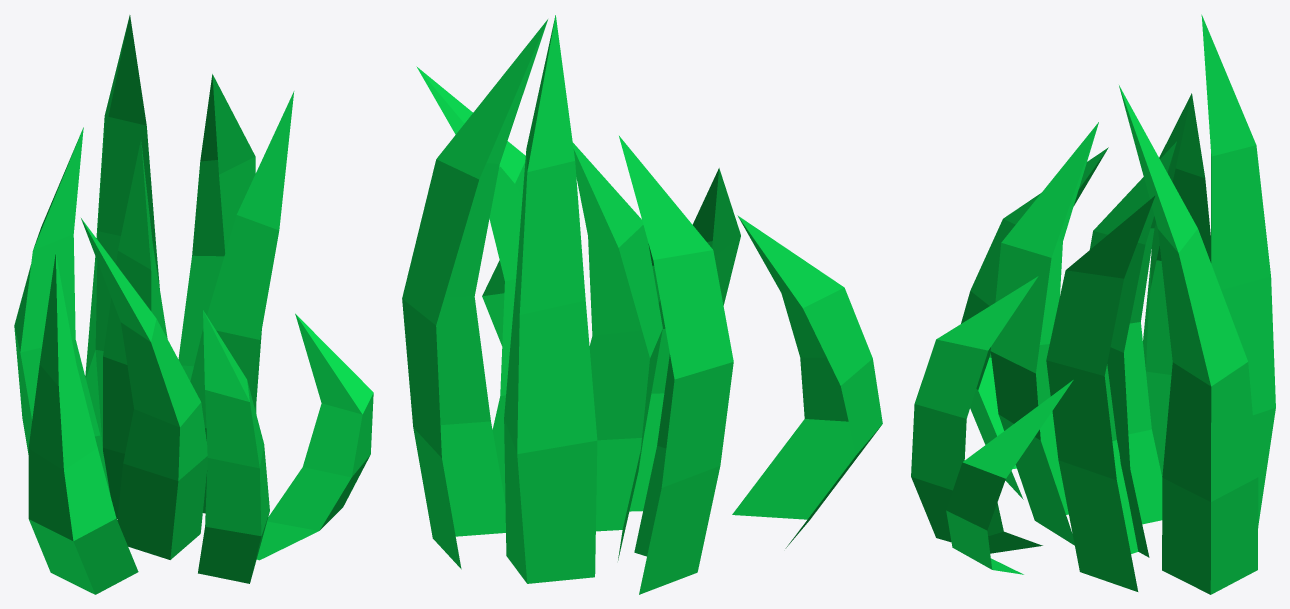
Rendered from Grass.fbx.
3 views of the same model, side by side, from view 1: azimuth 30°, elevation 25°; view 2: azimuth 150°, elevation 25°; view 3: azimuth 270°, elevation 25° (orthographic). The views are drawn at different scales.
Parts seen in each view (by area): view 1: grass_11, grass_04, grass_02, grass_05, grass_06, grass_03, grass_09, grass_01, grass_10; view 2: grass_03, grass_09, grass_01, grass_04, grass_10, grass_06, grass_11, grass_05; view 3: grass_09, grass_06, grass_11, grass_03, grass_10, grass_02, grass_05, grass_01, grass_04.
Part boxes in pixels (box(x1,y1,x2,y2)): grass_11: box(81, 218, 207, 559); grass_04: box(28, 253, 138, 594); grass_02: box(198, 310, 269, 583); grass_05: box(256, 313, 373, 560); grass_06: box(190, 91, 294, 513); grass_03: box(85, 15, 159, 449); grass_09: box(178, 74, 255, 380); grass_01: box(14, 127, 110, 495); grass_10: box(103, 139, 167, 519); grass_03: box(504, 15, 597, 583); grass_09: box(402, 19, 547, 569); grass_01: box(619, 136, 733, 594); grass_04: box(732, 215, 882, 548); grass_10: box(572, 142, 662, 560); grass_06: box(416, 66, 525, 501); grass_11: box(629, 168, 740, 511); grass_05: box(482, 260, 504, 345); grass_09: box(1119, 85, 1258, 594); grass_06: box(1046, 196, 1154, 591); grass_11: box(990, 122, 1098, 545); grass_03: box(1201, 14, 1275, 524); grass_10: box(1089, 141, 1176, 557); grass_02: box(911, 276, 1038, 542); grass_05: box(946, 380, 1073, 574); grass_01: box(1143, 93, 1210, 476); grass_04: box(961, 147, 1108, 499).
Bounding box in the file's own units: 0.9152 × 1.25 × 0.7875.
